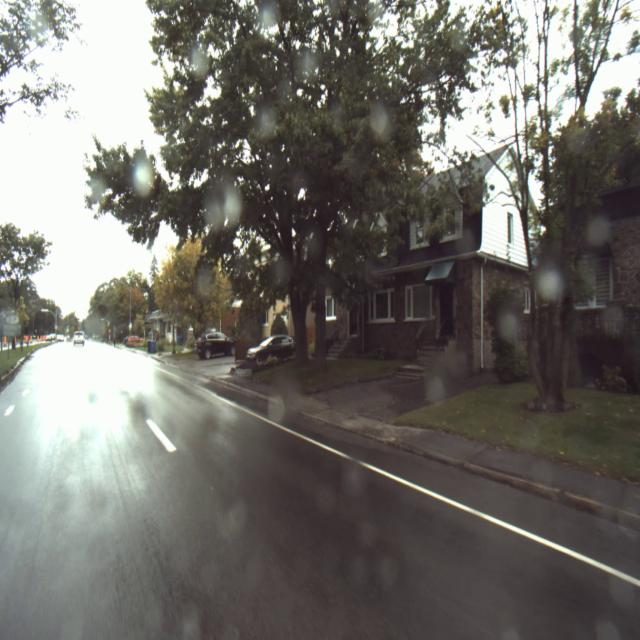car: (246, 335, 296, 363), (196, 333, 236, 359), (73, 331, 85, 347)
